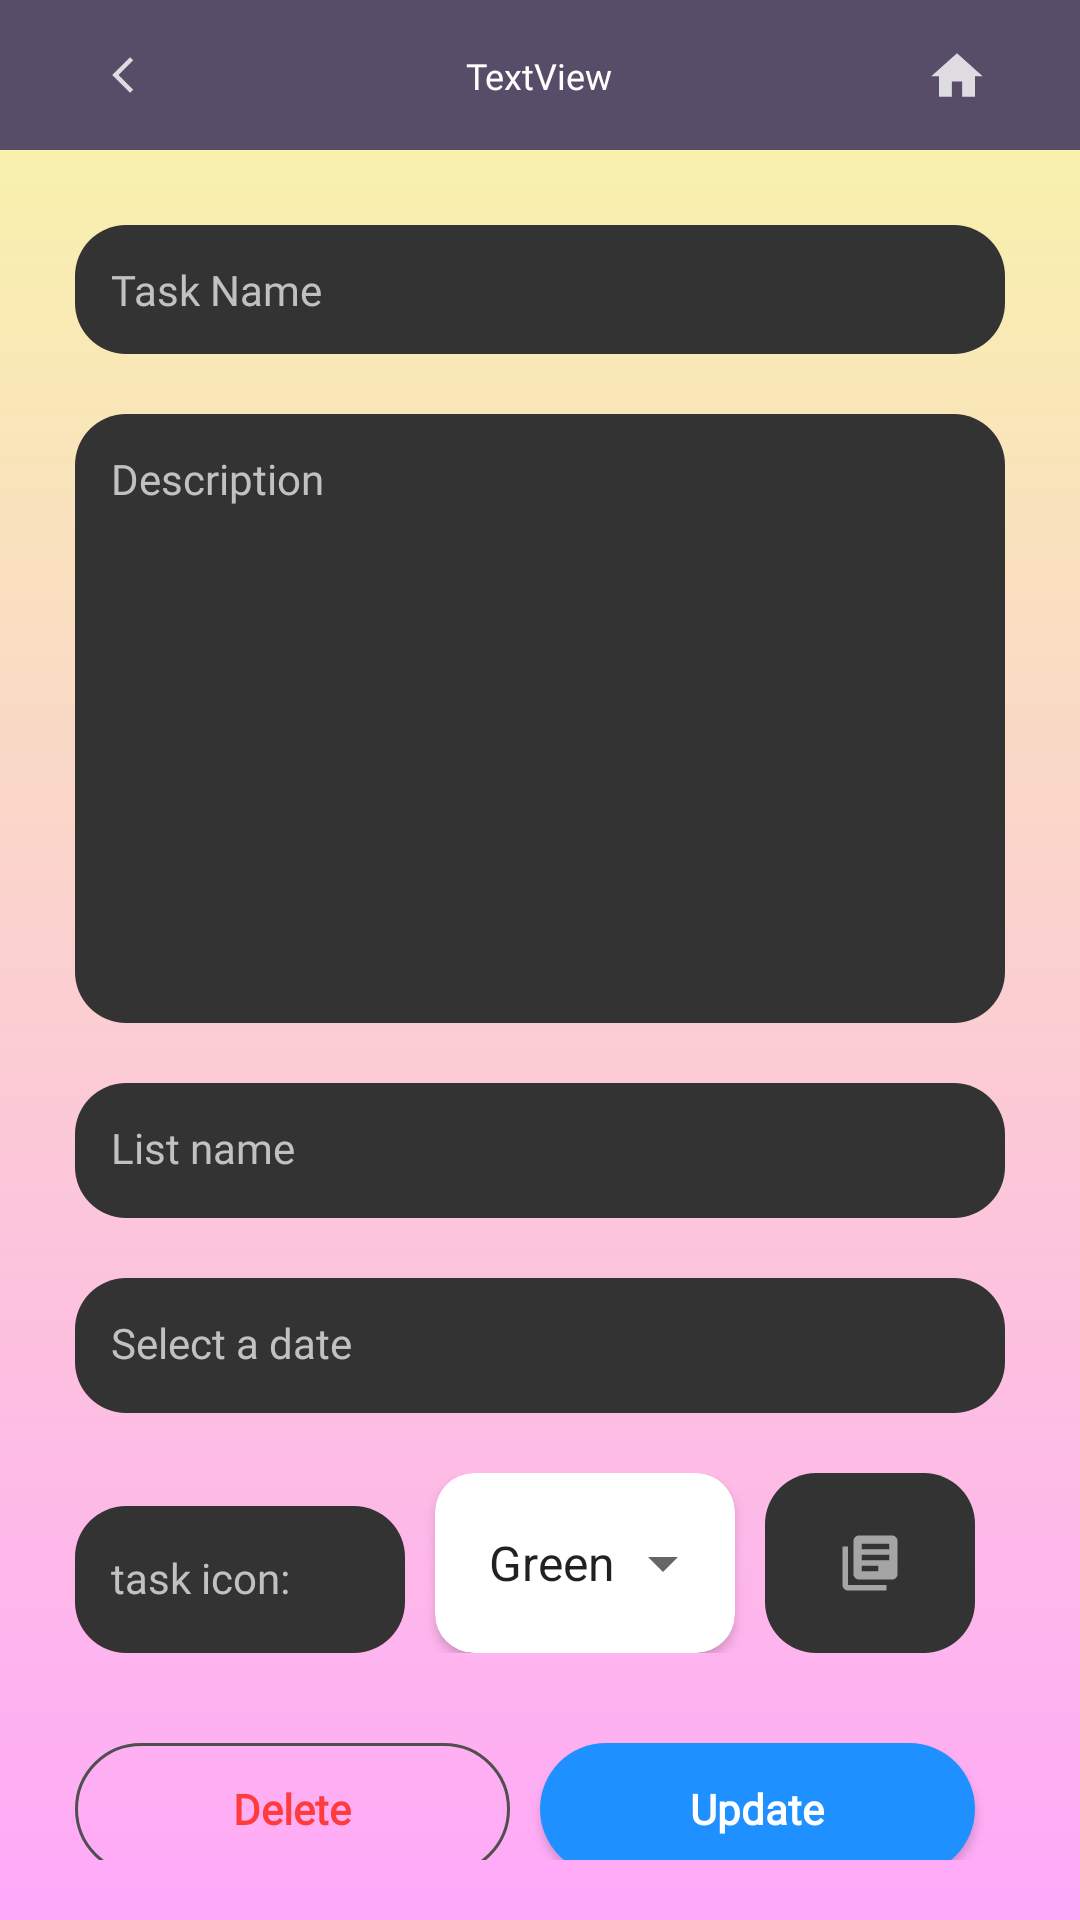

Icons on this 1080 × 1920 Android screen, each with its box as (x1, y1, x2, y2):
back arrow: (112, 57, 133, 93)
flashcard: (765, 1473, 975, 1653)
home: (932, 53, 982, 97)
